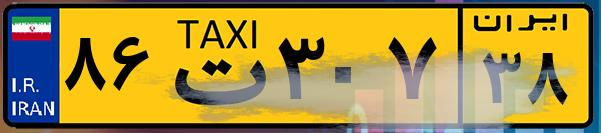0: (330, 28, 385, 110)
3: (270, 28, 330, 110), (475, 38, 525, 113)
6: (110, 28, 158, 98)
7: (385, 28, 445, 110)
8: (57, 26, 110, 100), (525, 38, 570, 115)
ت: (158, 12, 270, 120)
